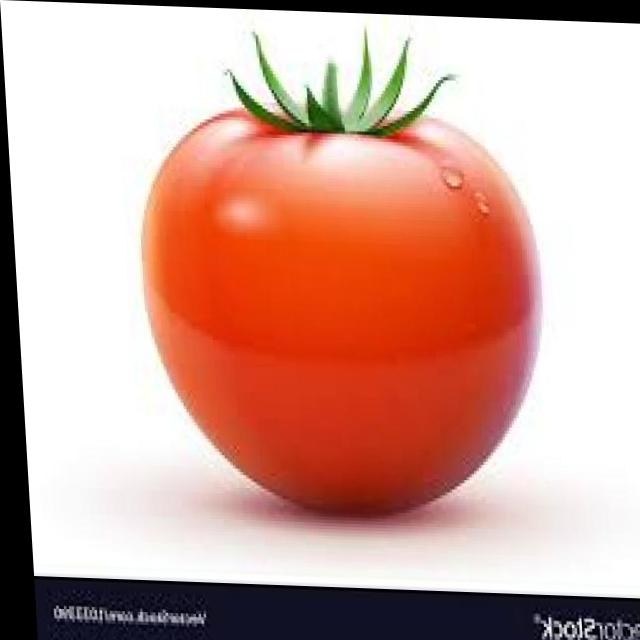kirmizi: (81, 20, 548, 539)
